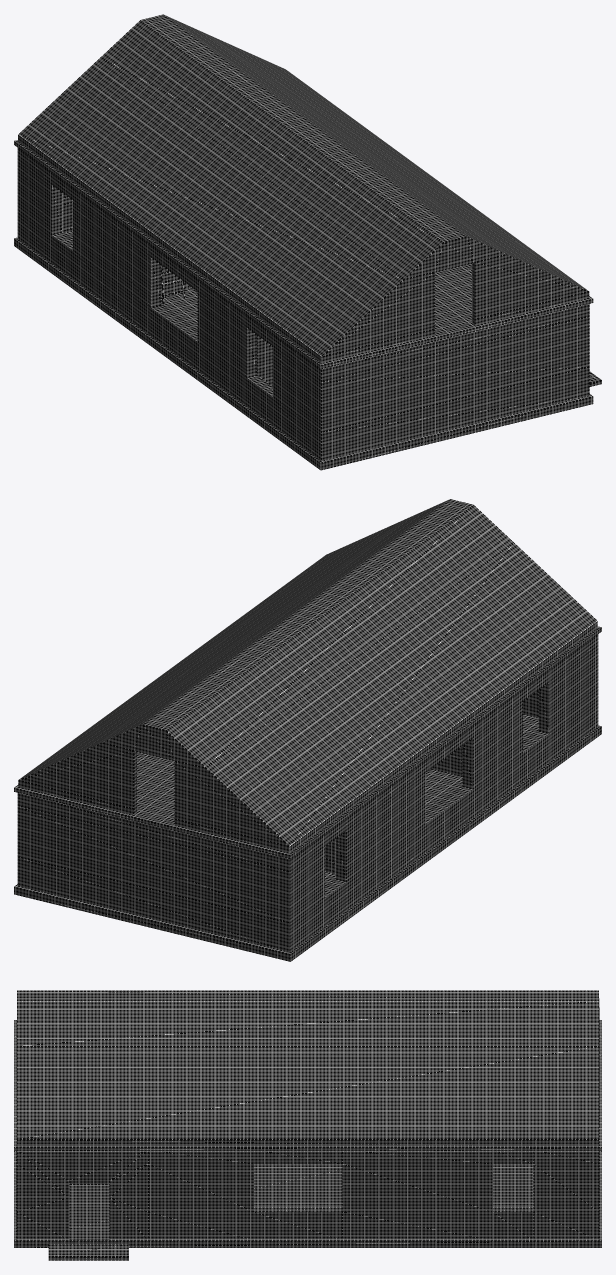
File: building_01.fbx
3 views of the same model, one above another, from view 1: azimuth 30°, elevation 25°; view 2: azimuth 150°, elevation 25°; view 3: azimuth 270°, elevation 25° (orthographic). The views are drawn at different scales.
Visible parts, largest first — view 1: Roof, ExteriorWalls, Foundation, Ceiling, InteriorWall_01; view 2: Roof, ExteriorWalls, Foundation, Ceiling; view 3: Roof, ExteriorWalls, Foundation, Ceiling, PreDoor.
Part boxes in pixels (x1,y1,x2,y2): Roof: [18, 14, 589, 363]; ExteriorWalls: [17, 148, 589, 461]; Foundation: [14, 231, 593, 470]; Ceiling: [14, 140, 593, 369]; InteriorWall_01: [257, 335, 272, 386]; Roof: [18, 499, 597, 853]; ExteriorWalls: [17, 634, 598, 952]; Foundation: [14, 714, 601, 961]; Ceiling: [14, 626, 601, 859]; Roof: [17, 990, 599, 1146]; ExteriorWalls: [16, 1151, 599, 1239]; Foundation: [14, 1151, 601, 1247]; Ceiling: [14, 1020, 601, 1151]; PreDoor: [48, 1244, 128, 1260].
Size of what is drawn, in the model's own units: 1160 by 2059 by 728.
